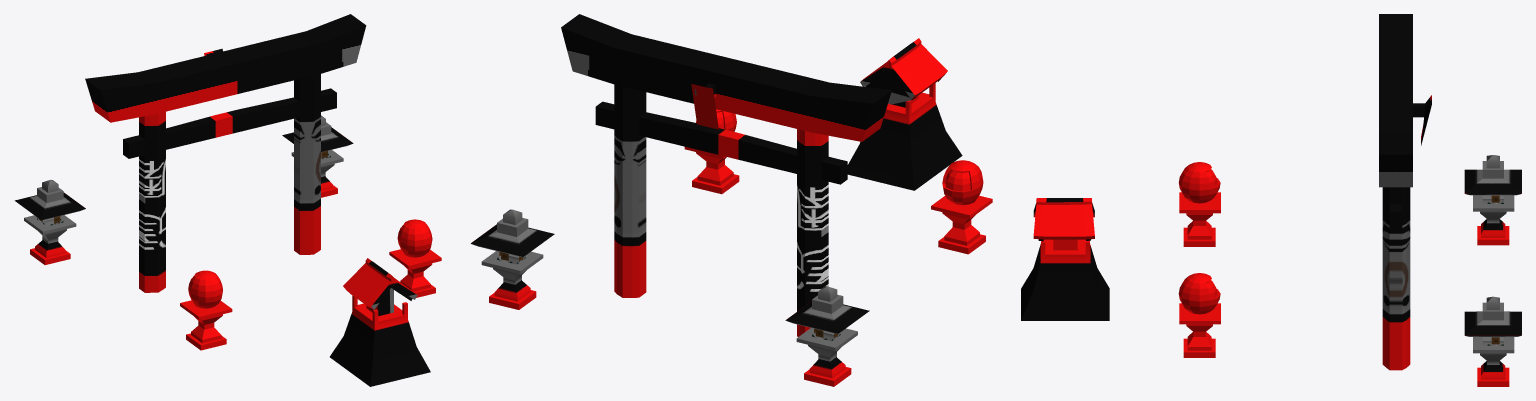
File: haikei.obj
3 views of the same model, side by side, from view 1: azimuth 30°, elevation 25°; view 2: azimuth 150°, elevation 25°; view 3: azimuth 270°, elevation 25° (orthographic). The views are drawn at different scales.
Parts seen in each view (by area): view 1: haikei:pCube3; view 2: haikei:pCube3; view 3: haikei:pCube3.
Boxes of the visible parts, bbox=[...] form: haikei:pCube3: bbox=[14, 14, 441, 386]; haikei:pCube3: bbox=[471, 14, 992, 386]; haikei:pCube3: bbox=[1021, 14, 1521, 386].
Size of the model in its own units: 18.73 by 12.46 by 23.88.
Materials: 1 (1 with a texture image).
